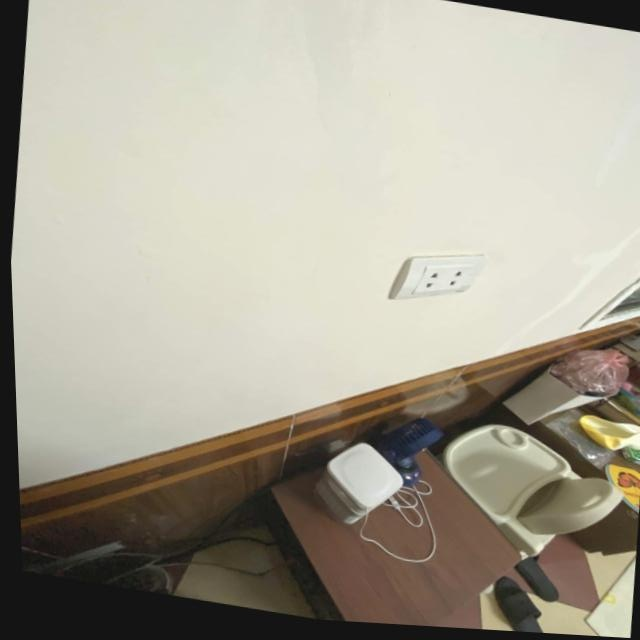outlet: (387, 237, 492, 314)
